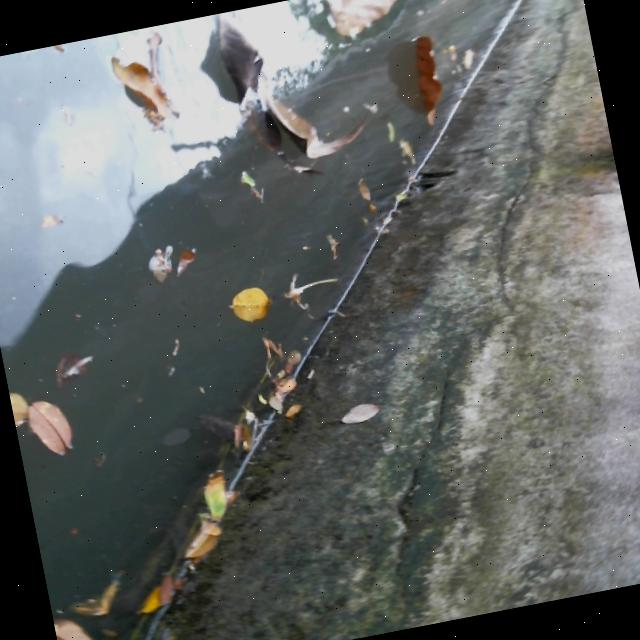Big-leaf: (200, 0, 364, 182), (296, 0, 418, 49), (400, 34, 454, 127)
Small-leaf: (17, 394, 74, 468), (171, 518, 237, 579), (61, 584, 129, 640), (212, 281, 279, 337), (190, 467, 242, 533), (128, 570, 188, 623), (377, 119, 427, 174), (225, 411, 275, 453), (138, 246, 180, 289), (342, 173, 386, 213), (8, 387, 41, 426), (168, 245, 203, 279), (54, 620, 93, 640)
